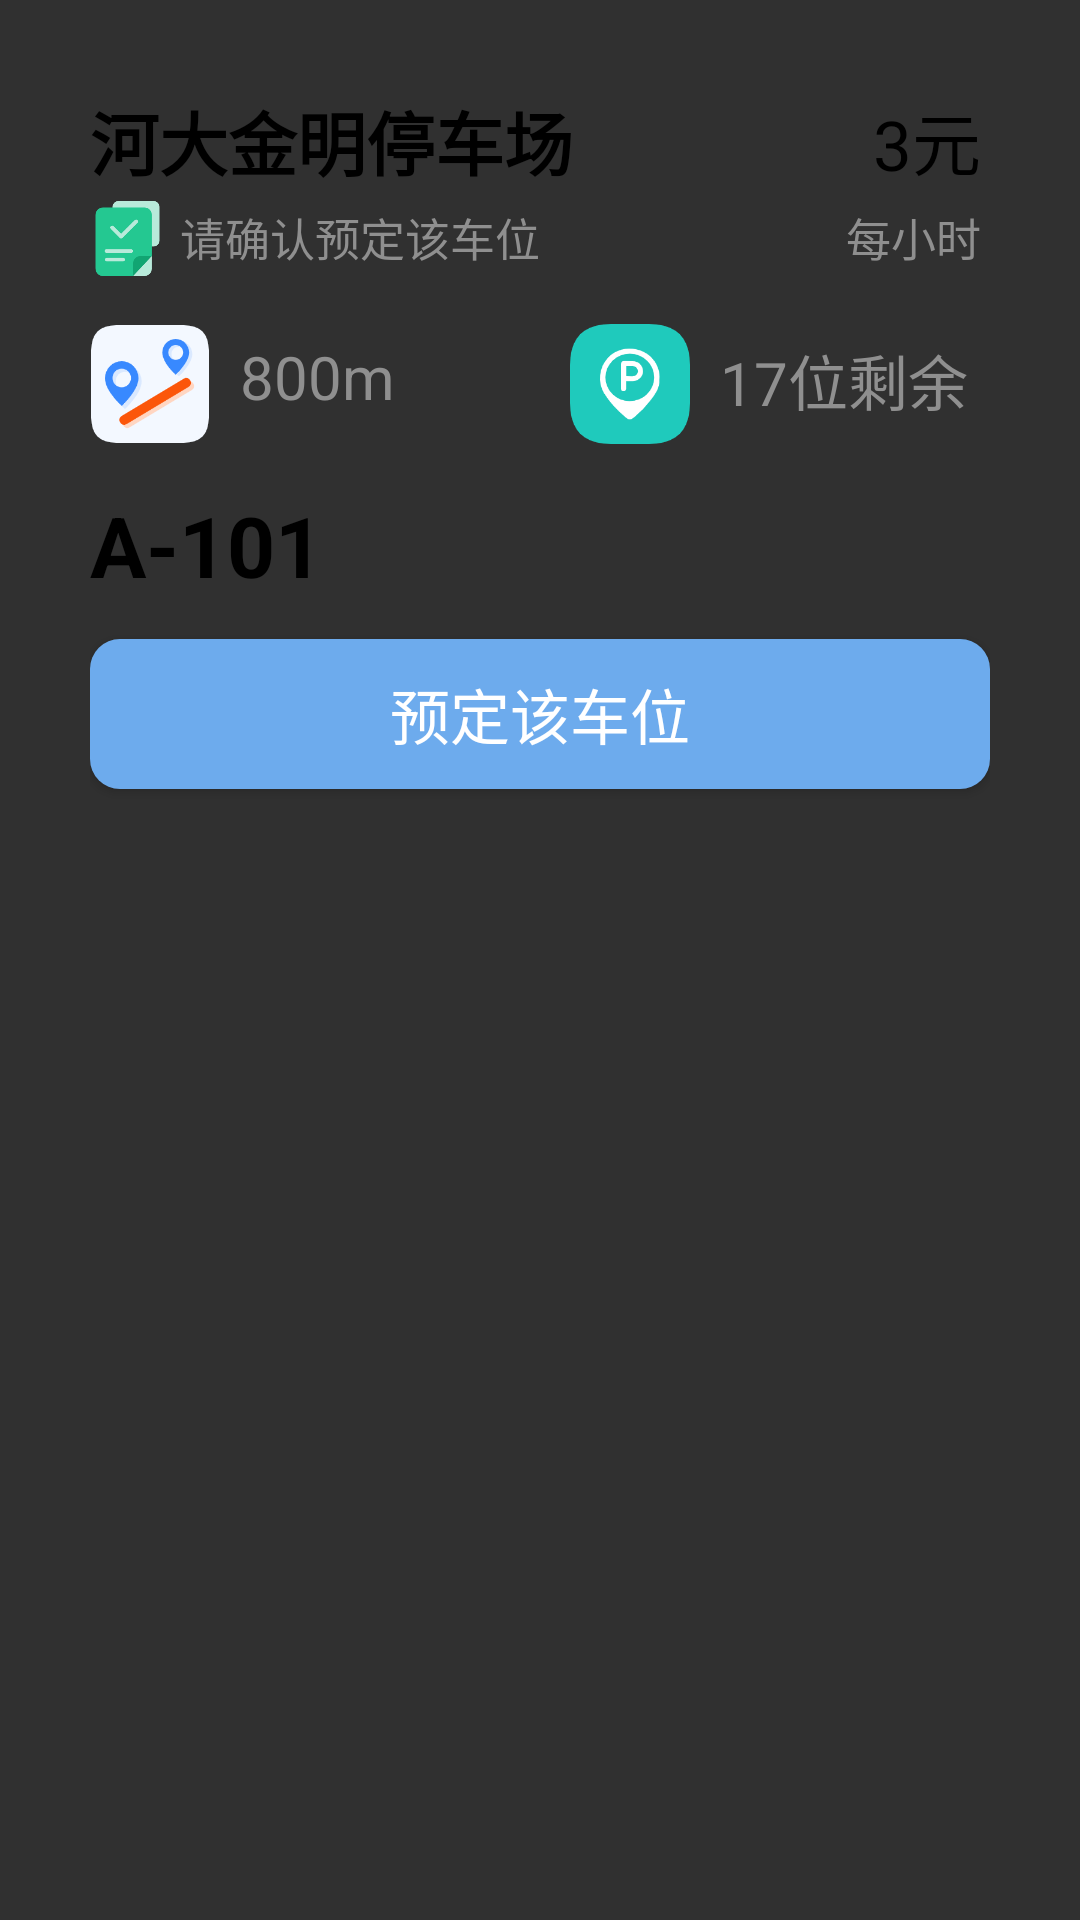

Where to tap for icons on this 1080*1920 app screen, as [x,y]:
distance: [150,384]
parkingicon: [630,384]
